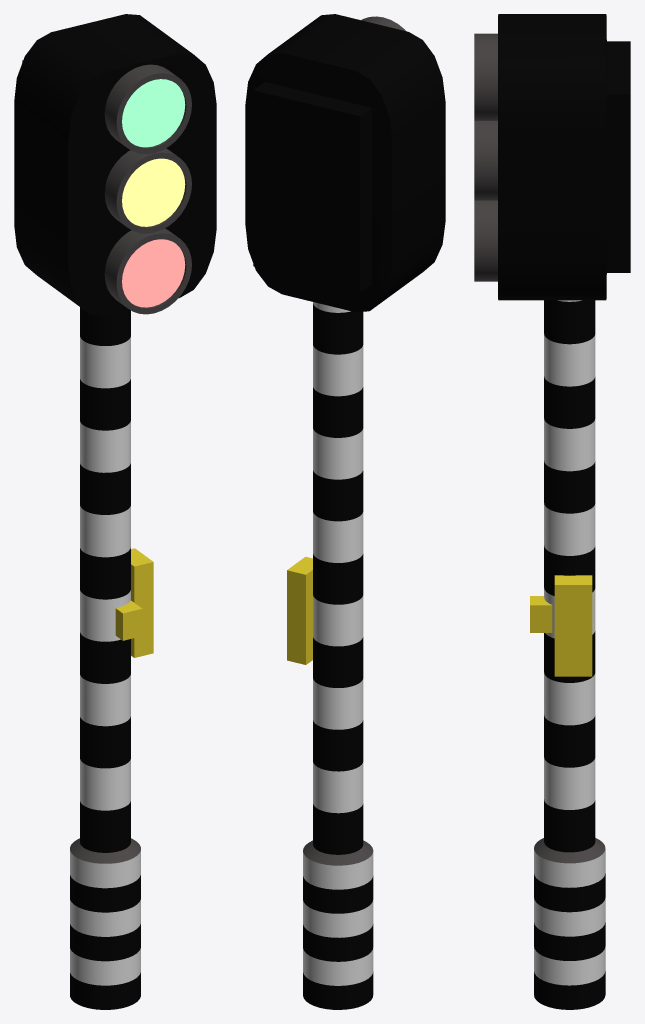
Rendered from D_cars_light_1.fbx.
The picture shows the model from 3 angles, left to right: view 1: azimuth 30°, elevation 25°; view 2: azimuth 150°, elevation 25°; view 3: azimuth 270°, elevation 25°; orthographic projection.
Visible parts, largest first — view 1: Cylinder.022, Cube.023, Cylinder.025, Cylinder.023, Cylinder.024, Cube.024, Cube.025; view 2: Cube.023, Cylinder.022, Cube.024; view 3: Cube.023, Cylinder.022, Cube.024, Cylinder.025, Cylinder.023, Cylinder.024, Cube.025.
Boxes of the visible parts, x1=… form: Cylinder.022: x1=70, y1=307, x2=140, y2=1009; Cube.023: x1=14, y1=14, x2=216, y2=316; Cylinder.025: x1=104, y1=64, x2=191, y2=154; Cylinder.023: x1=104, y1=228, x2=191, y2=314; Cylinder.024: x1=104, y1=148, x2=191, y2=233; Cube.024: x1=131, y1=548, x2=153, y2=657; Cube.025: x1=115, y1=600, x2=142, y2=640; Cube.023: x1=245, y1=14, x2=445, y2=312; Cylinder.022: x1=303, y1=302, x2=373, y2=1009; Cube.024: x1=287, y1=556, x2=312, y2=664; Cube.023: x1=498, y1=14, x2=630, y2=300; Cylinder.022: x1=534, y1=300, x2=605, y2=1009; Cube.024: x1=554, y1=575, x2=592, y2=676; Cylinder.025: x1=474, y1=33, x2=497, y2=120; Cylinder.023: x1=474, y1=200, x2=497, y2=281; Cylinder.024: x1=474, y1=121, x2=497, y2=200; Cube.025: x1=530, y1=596, x2=552, y2=632.
Size of the model in its own units: 55.44 by 341 by 50.26.
